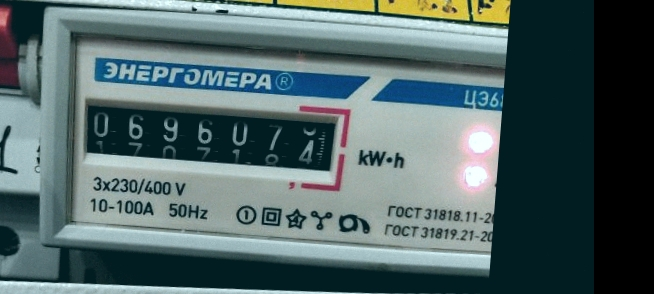0: (228, 116, 250, 148), (90, 108, 110, 138)
4: (296, 137, 314, 166)
6: (193, 115, 215, 146), (125, 110, 146, 140)
7: (264, 121, 283, 152)
9: (159, 114, 179, 143)
screen: (65, 80, 356, 191)
